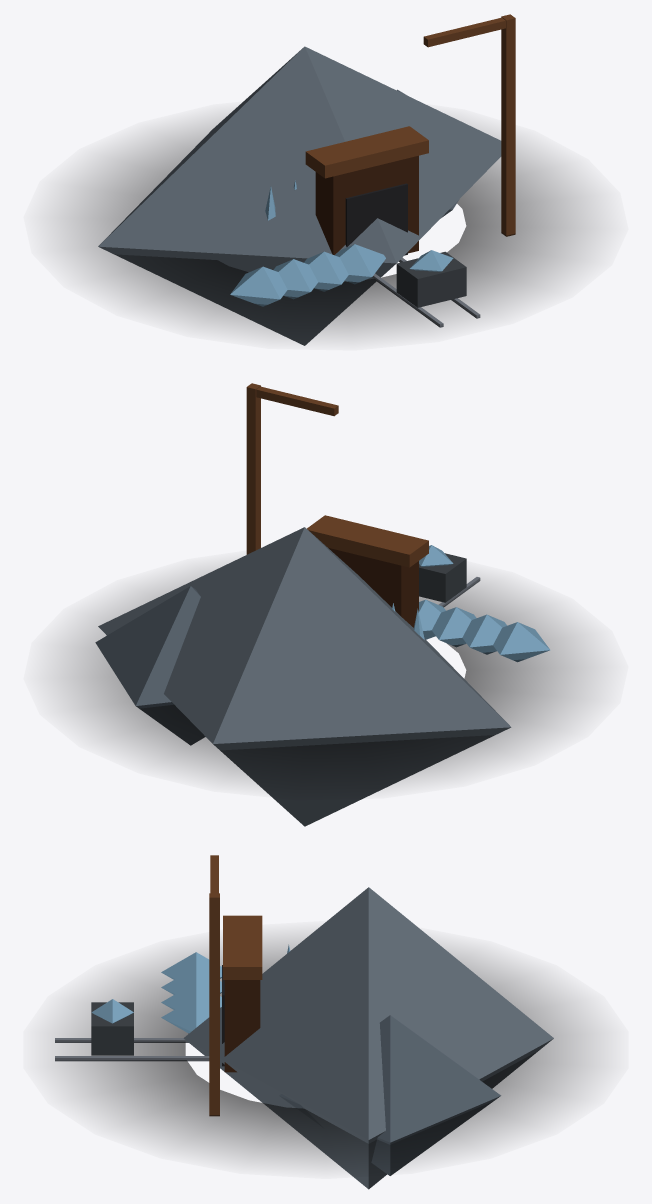
File: iron_mine_t2.glb
3 renders of one model, top to bottom at view 1: azimuth 30°, elevation 25°; view 2: azimuth 150°, elevation 25°; view 3: azimuth 270°, elevation 25°, orthographic.
Visible parts, largest first — view 1: iron_mine_t2; view 2: iron_mine_t2; view 3: iron_mine_t2.
Boxes of the visible parts, x1,y1,x2,y2 form: iron_mine_t2: [61, 14, 590, 345]; iron_mine_t2: [61, 383, 590, 826]; iron_mine_t2: [55, 855, 590, 1189].
Size of the model in its own units: 8.84 by 5.52 by 8.75.
